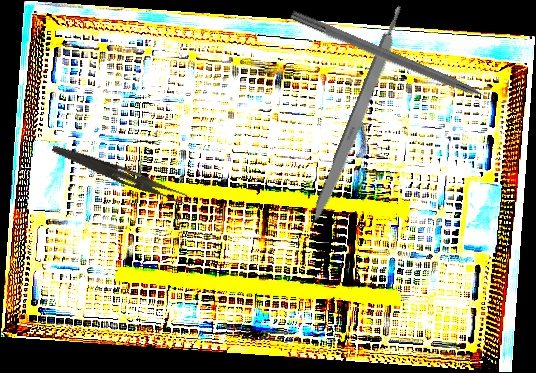Dressing Forceps: (49, 143, 189, 205)
Hook Surgical: (288, 9, 509, 113)
Scalpel Handle: (306, 4, 411, 230)
